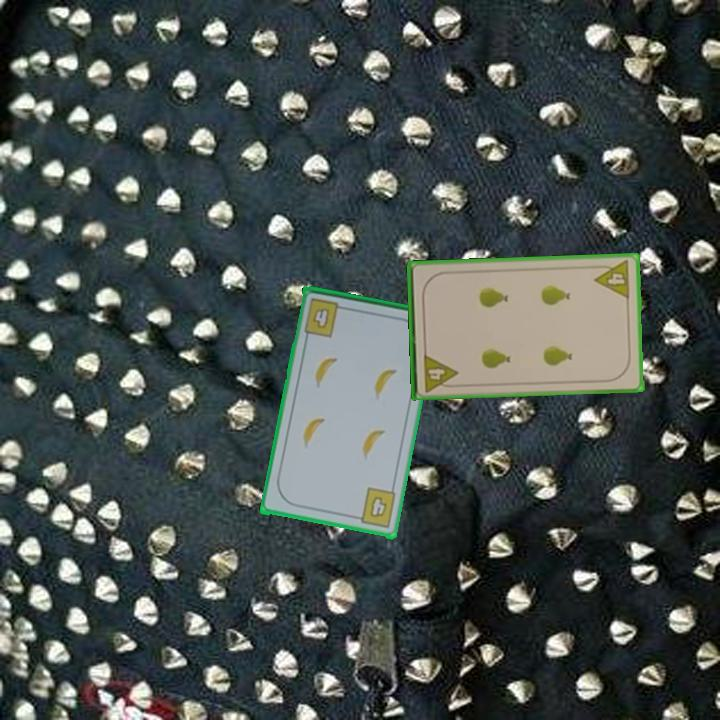4b: (350, 485, 399, 531), (301, 294, 349, 340)
4p: (591, 257, 633, 302), (420, 350, 460, 395)
